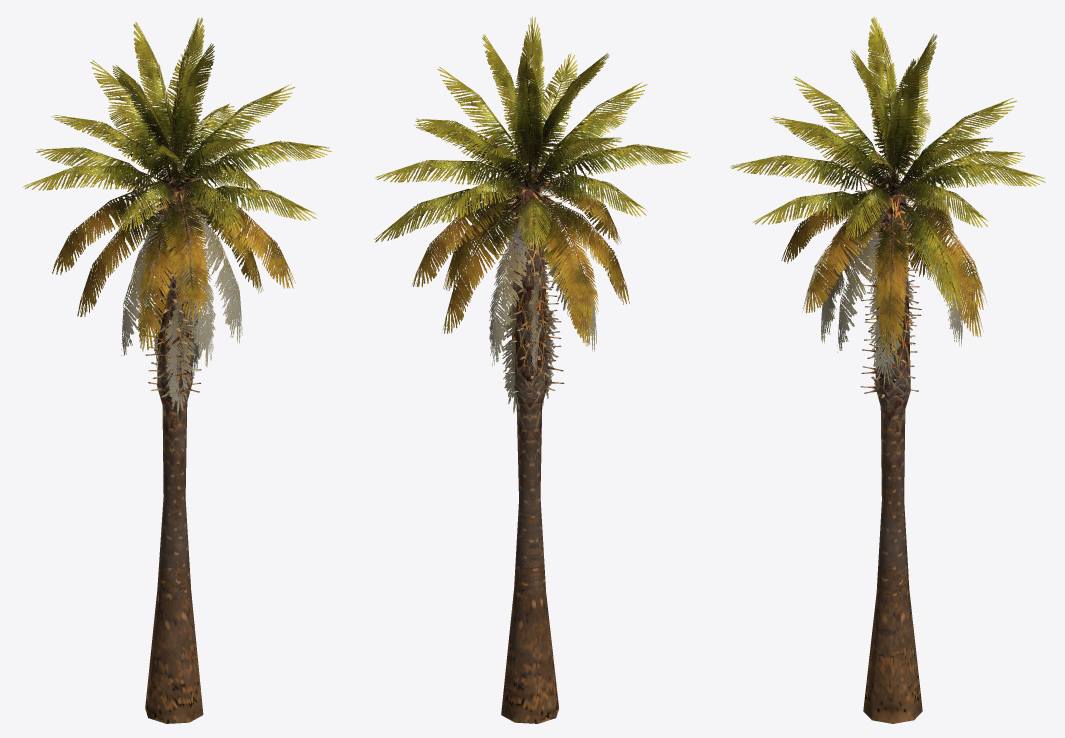
File: palm_date_new_4.glb
3 renders of one model, left to right at view 1: azimuth 30°, elevation 25°; view 2: azimuth 150°, elevation 25°; view 3: azimuth 270°, elevation 25°, orthographic.
Size of the model in its own units: 11.82 by 27.09 by 11.91.
1 material, 1 textured.
